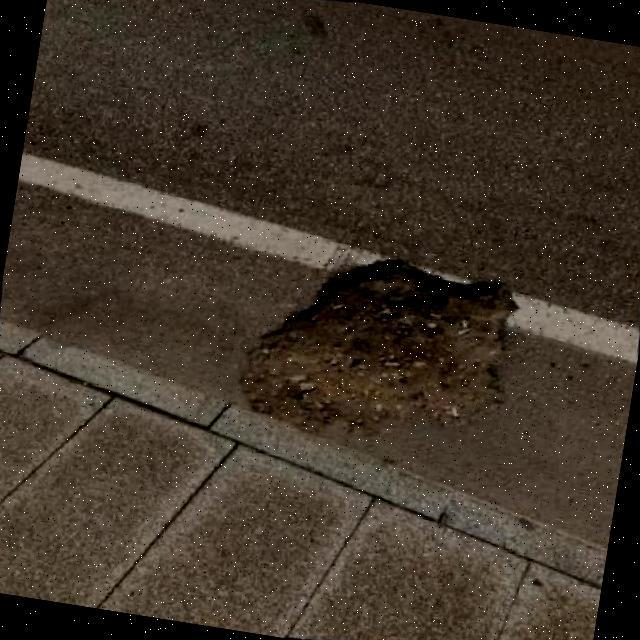Pothole: (238, 263, 518, 438)
